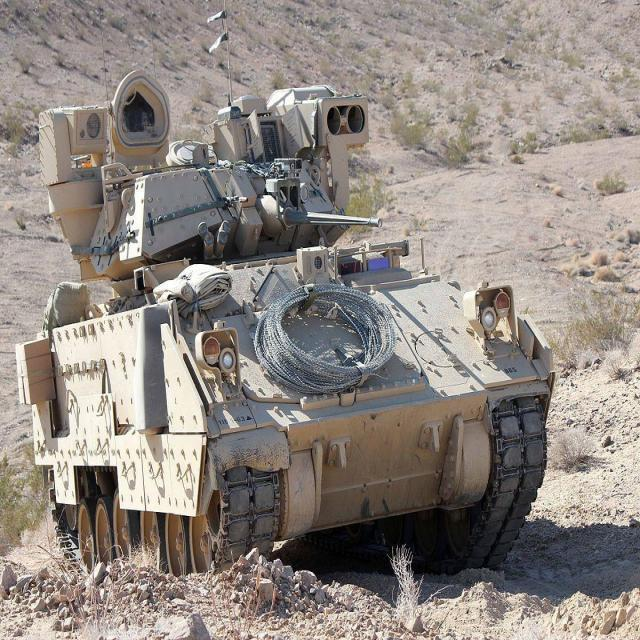MIL_MBT: (15, 57, 554, 580)
